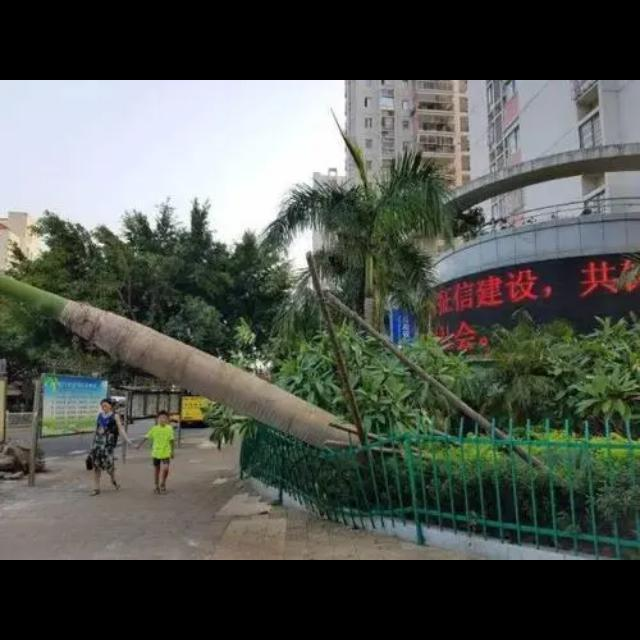fallen_tree: (1, 270, 387, 464)
